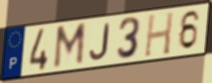3: (116, 16, 143, 61)
4: (29, 26, 50, 72)
6: (177, 10, 201, 52)
H: (143, 11, 175, 59)
J: (88, 22, 112, 62)
M: (51, 21, 87, 71)
